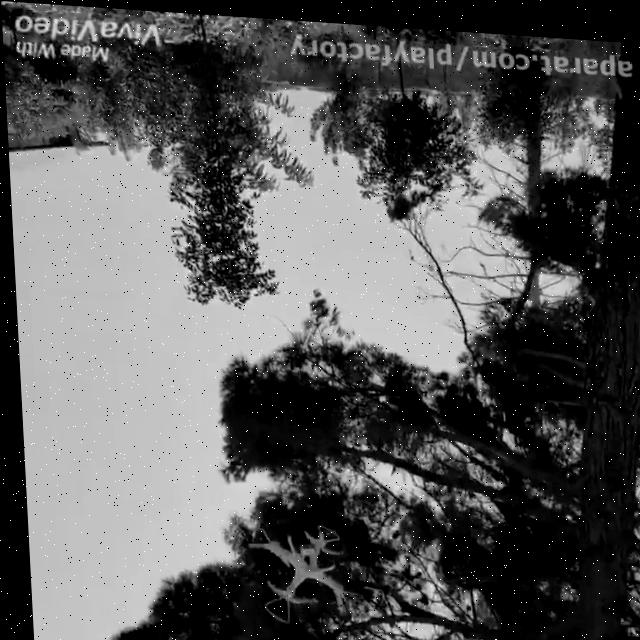drone: (240, 518, 352, 622)
